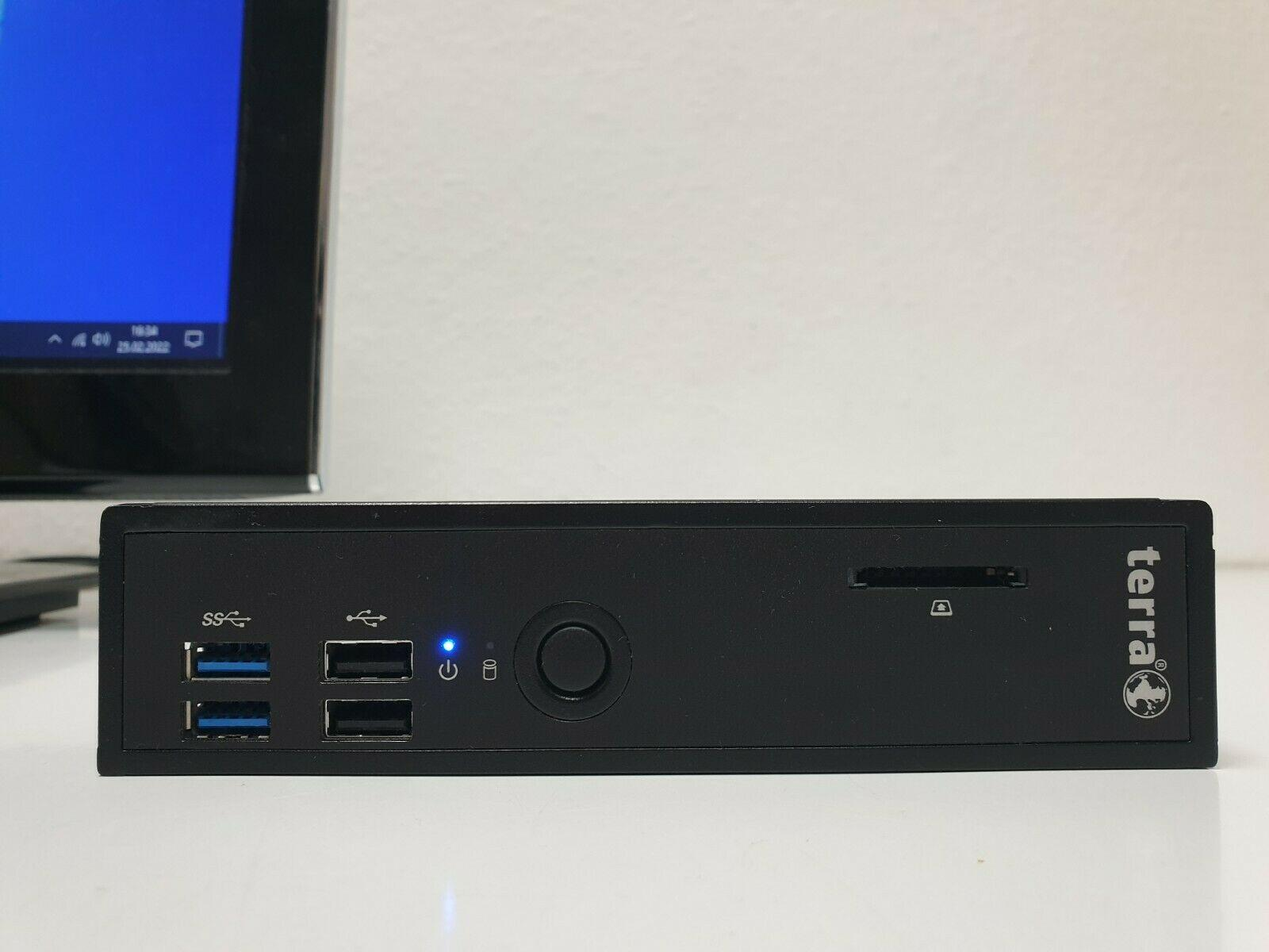computer_monitor: (0, 0, 356, 513)
